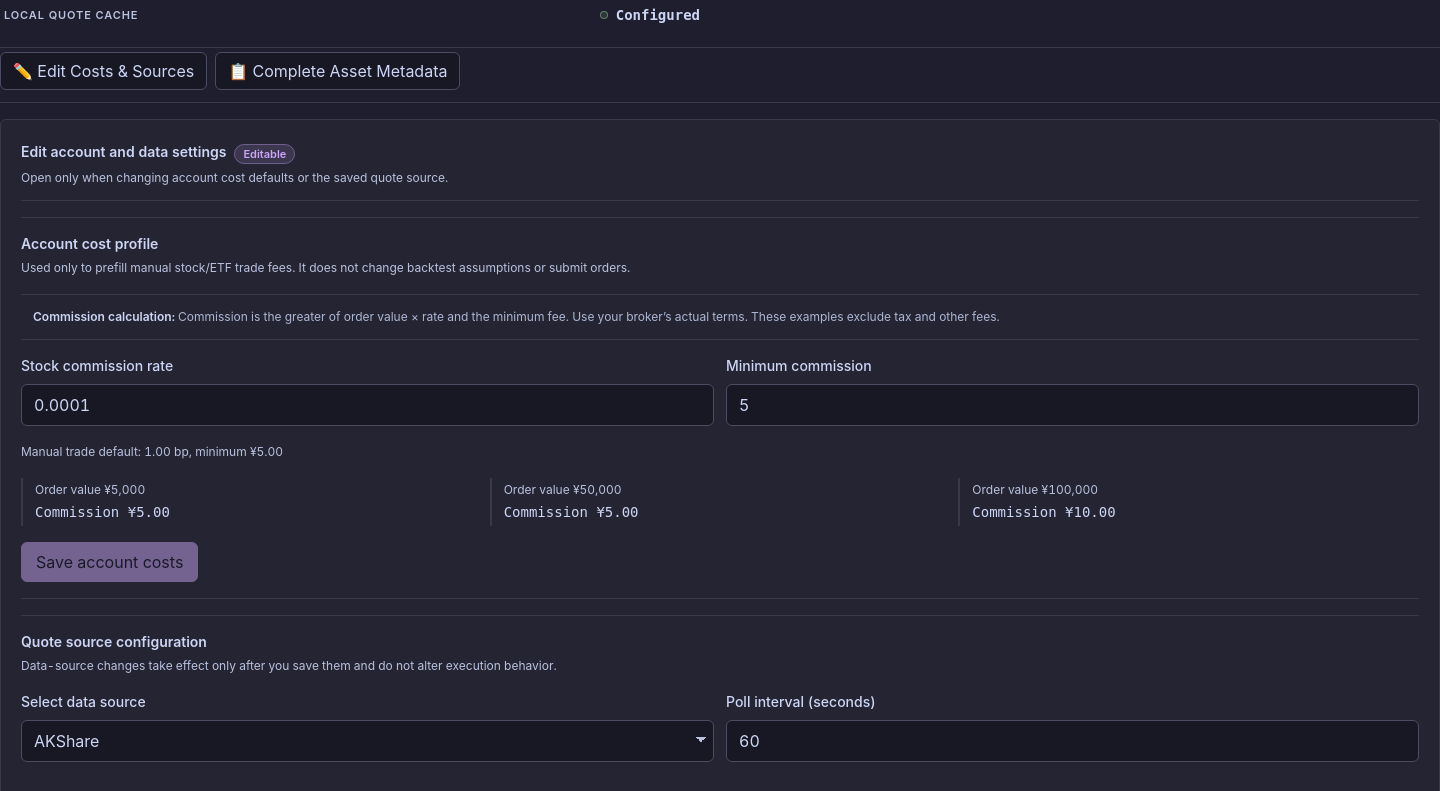
Scenario: saves account commission settings through the settings endpoint
(page scrolled)
Replace the text in the number field labelled "Stock commission rate" with "0.00025" at (368, 405), box top-left (21, 384), bottom-right (714, 426)
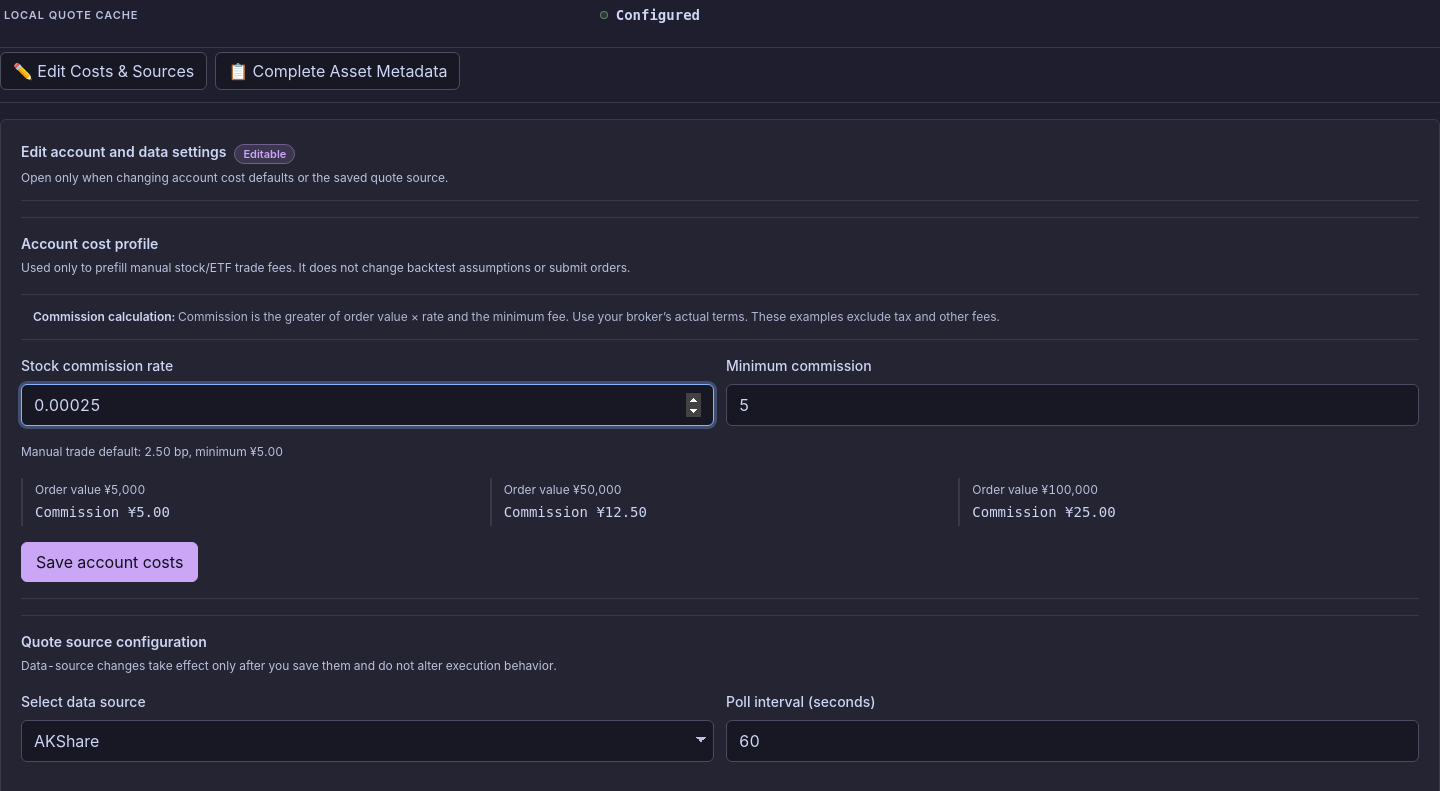
Replace the text in the number field labelled "Minimum commission" with "3" at (1072, 405), box top-left (726, 384), bottom-right (1419, 426)
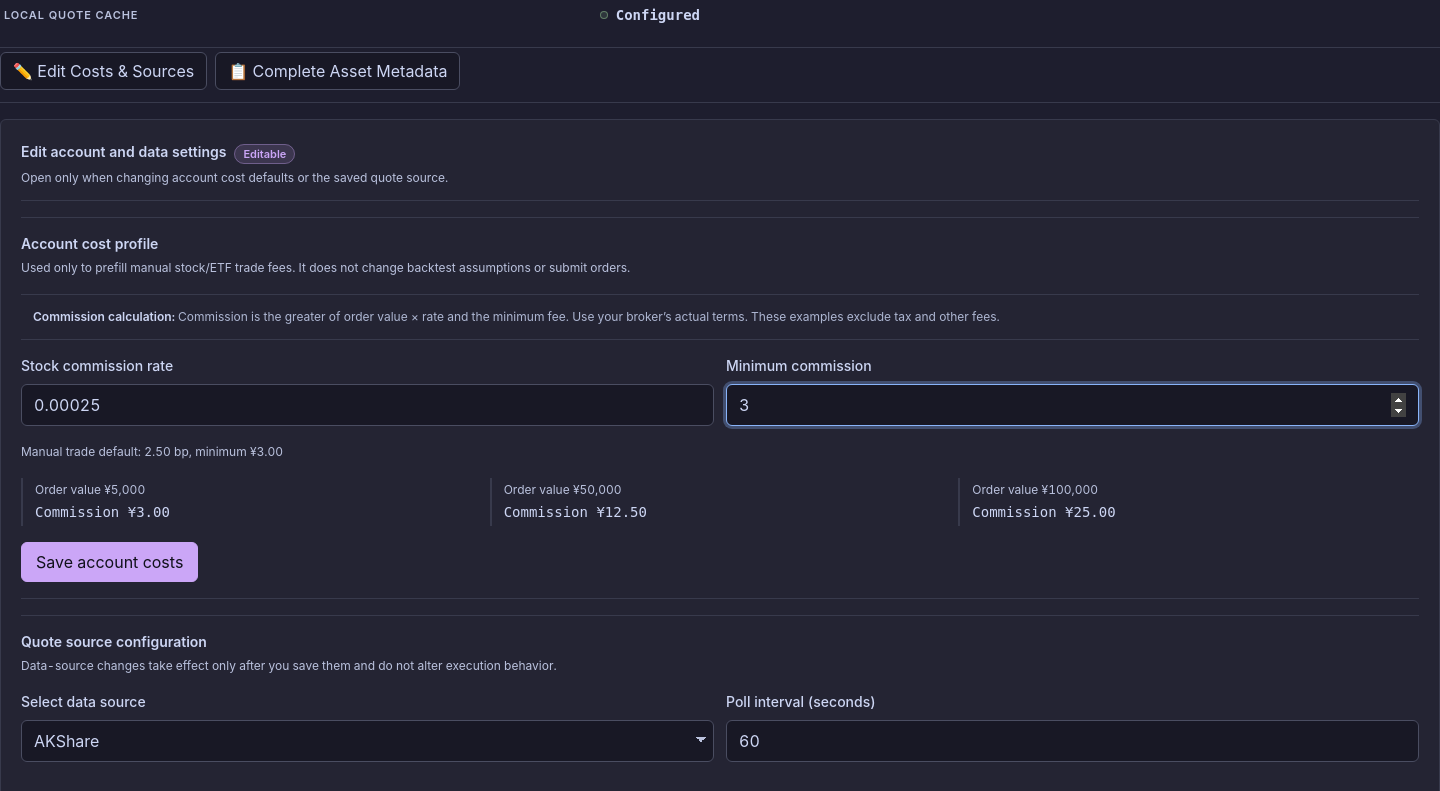
Click the button "Save account costs" at (110, 562), box top-left (21, 542), bottom-right (198, 582)
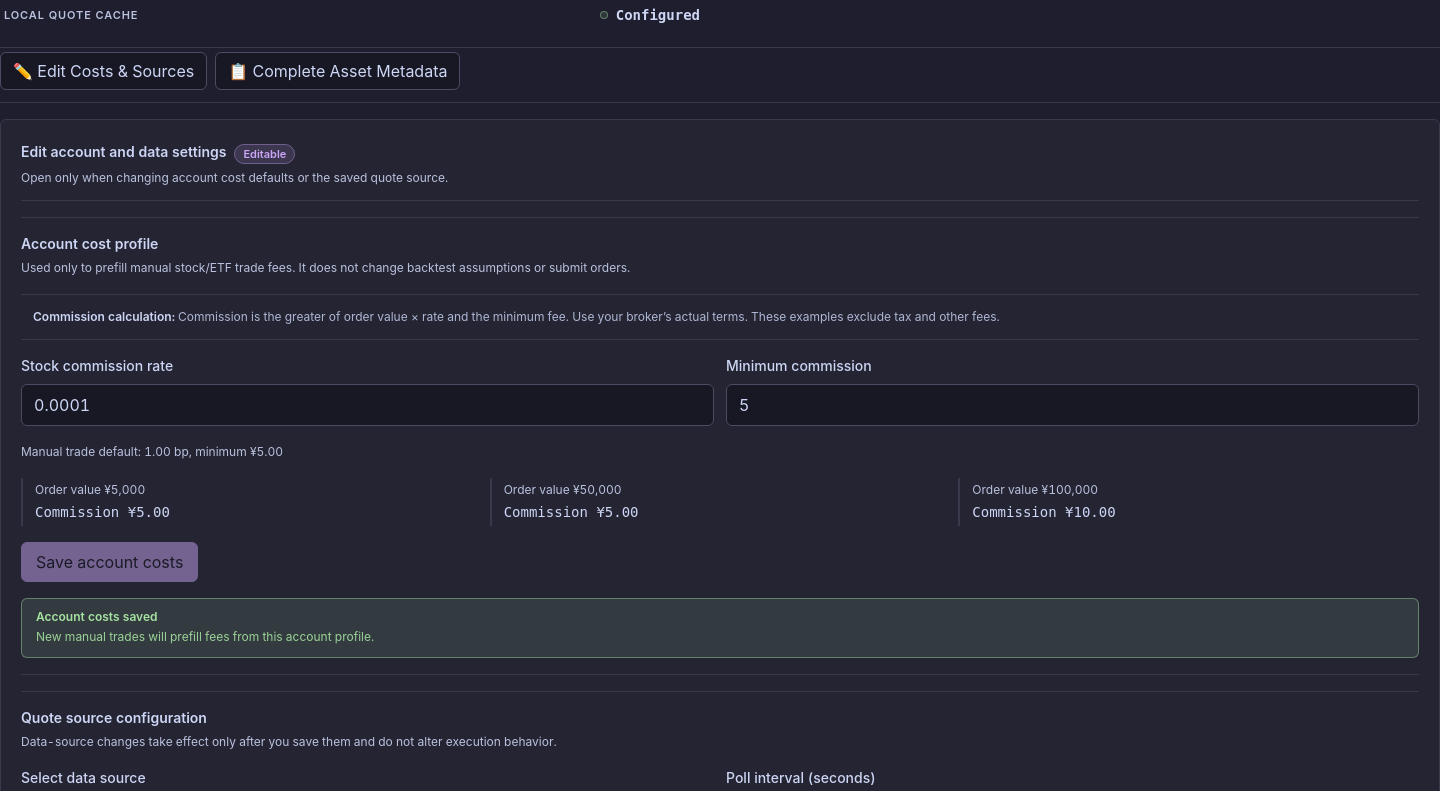
Now the text "Account costs saved" is shown, box top-left (36, 609), bottom-right (158, 624)
